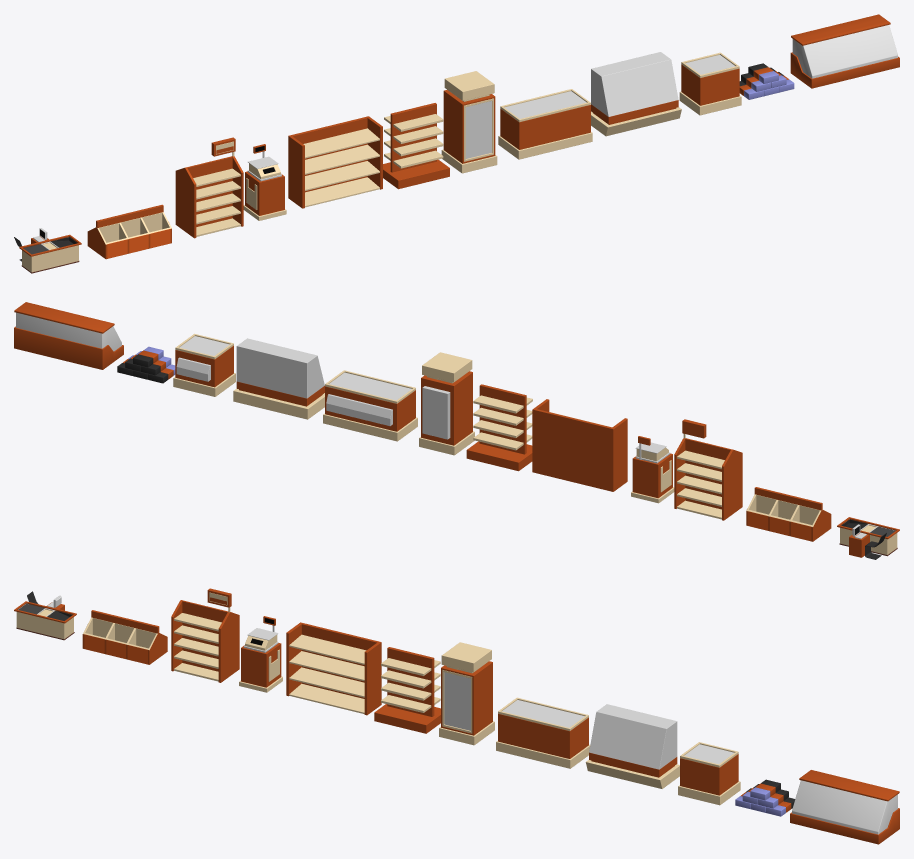
Rendered from store_racks_pack.fbx.
3 renders of one model, top to bottom at view 1: azimuth 30°, elevation 25°; view 2: azimuth 150°, elevation 25°; view 3: azimuth 330°, elevation 25°, orthographic.
Parts seen in each view (by area): view 1: Cube.017, Cube.034, Cube.050, Cube.016, Cube.007, Cube.005, Cube.027, Cube.018, Cube.008, Cube.019, Cube.036, Cube.020 (+15 smaller); view 2: Cube.016, Cube.034, Cube.007, Cube.005, Cube.018, Cube.049, Cube.008, Cube.019, Cube.020, Cube.050, Cube.027, Cube.011 (+16 smaller); view 3: Cube.017, Cube.034, Cube.050, Cube.016, Cube.007, Cube.005, Cube.027, Cube.018, Cube.008, Cube.019, Cube.036, Cube.020 (+15 smaller).
Boxes of the visible parts, x1,y1,x2,y2 form: Cube.017: (303,128,379,207); Cube.034: (591,52,678,116); Cube.050: (792,25,897,78); Cube.016: (288,116,382,208); Cube.007: (175,156,243,238); Cube.005: (87,212,171,259); Cube.027: (500,105,590,149); Cube.018: (383,103,449,189); Cube.008: (193,168,240,236); Cube.019: (384,114,443,168); Cube.036: (681,64,739,105); Cube.020: (443,90,495,163); Cube.016: (532,399,627,491); Cube.034: (236,338,324,398); Cube.007: (674,438,742,520); Cube.005: (746,494,831,541); Cube.018: (466,384,532,471); Cube.049: (14,326,123,369); Cube.008: (677,450,724,519); Cube.019: (473,395,532,450); Cube.020: (421,371,472,445); Cube.050: (16,312,121,351); Cube.027: (325,386,415,431); Cube.011: (631,453,674,503); Cube.017: (289,634,366,713); Cube.034: (589,704,677,769); Cube.050: (792,780,897,834); Cube.016: (286,622,381,715); Cube.007: (171,600,239,682); Cube.005: (82,617,167,664); Cube.027: (498,713,588,758); Cube.018: (374,647,440,733); Cube.008: (174,613,221,681); Cube.019: (381,658,440,712); Cube.036: (680,754,738,795); Cube.020: (441,661,492,735).
Size of the model in its own units: 3132 by 281 by 149.
